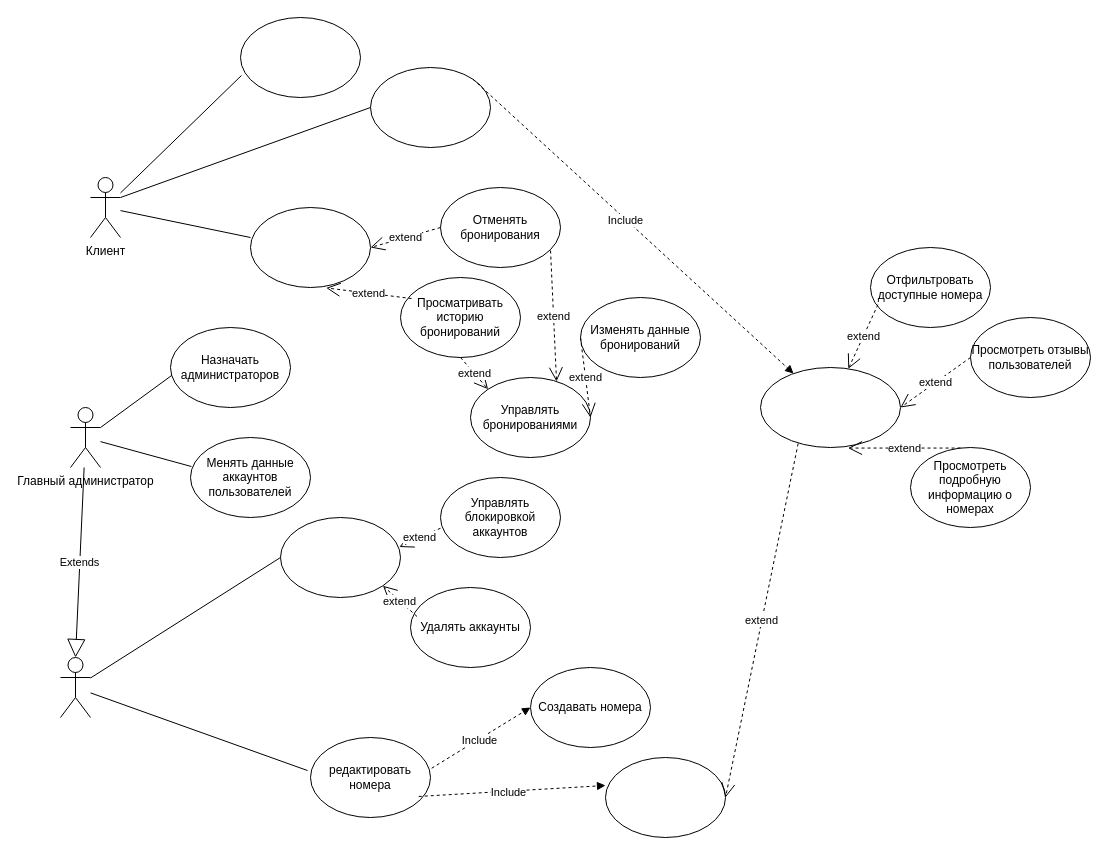
Image size: 1108x855. Some labels were removed from this diagram. Here are the shapes that lost their labels. From the top down, the centre of each, then its label:
the point at 300,57: Оставить отзыв
the point at 430,107: Забронировать номер
the point at 310,247: Управлять своими броинированиями
the point at 830,407: Выбрать номер из каталога
the point at 340,557: Управлять аккаунтами пользователей
the point at 75,687: Администратор
the point at 665,797: редактировать существующие номера
